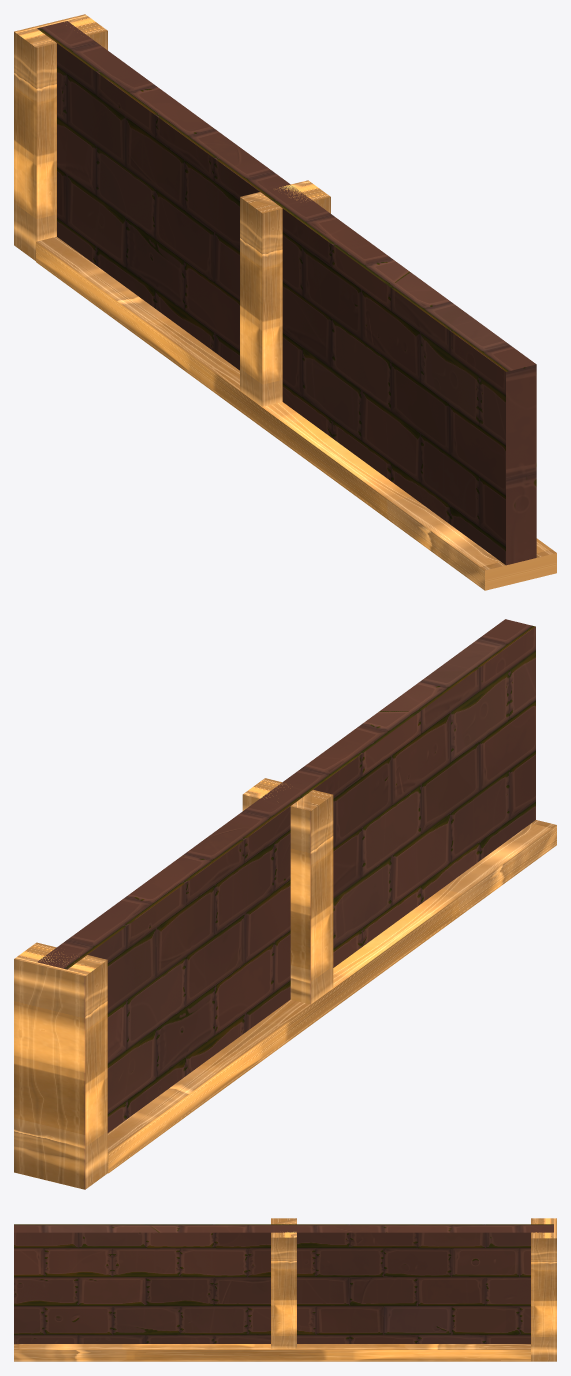
Rendered from SM_Small_Horizontal_Wall_03.fbx.
3 views of the same model, one above another, from view 1: azimuth 30°, elevation 25°; view 2: azimuth 150°, elevation 25°; view 3: azimuth 270°, elevation 25° (orthographic). The views are drawn at different scales.
Parts seen in each view (by area): view 1: SM_Small_Horizontal_Wall_03; view 2: SM_Small_Horizontal_Wall_03; view 3: SM_Small_Horizontal_Wall_03.
Part boxes in pixels (box(x1,y1,x2,y2)): SM_Small_Horizontal_Wall_03: box(14, 14, 556, 590); SM_Small_Horizontal_Wall_03: box(14, 619, 556, 1189); SM_Small_Horizontal_Wall_03: box(14, 1218, 556, 1361).
Bounding box in the file's own units: 35.24 × 100 × 400.
